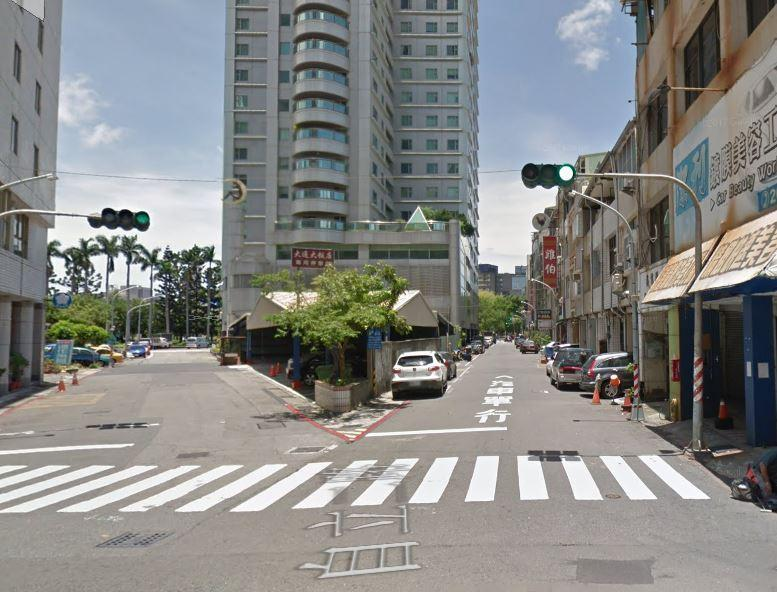green_traffic_light: (517, 160, 578, 189), (100, 204, 150, 230)
